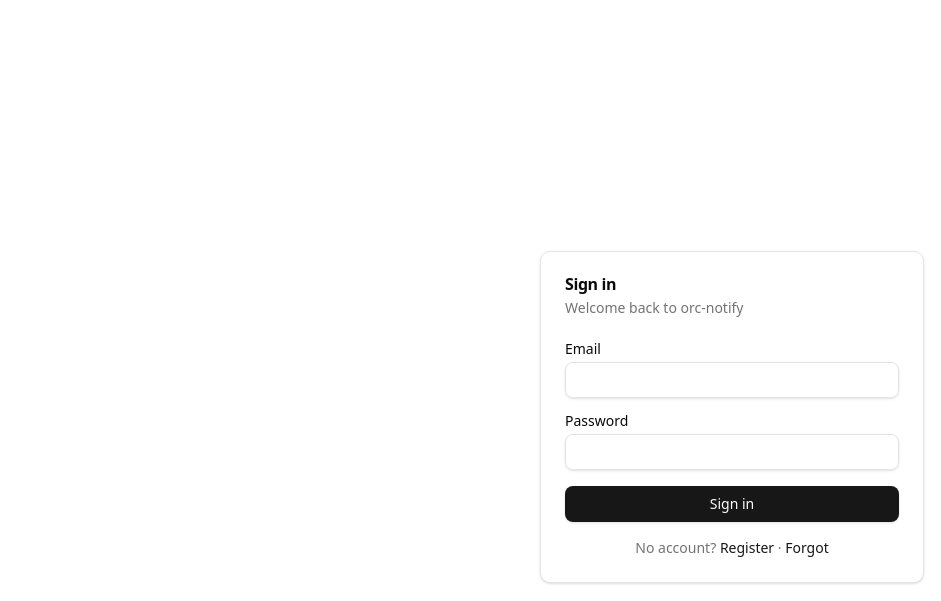
it: <Login> › submits credentials and navigates to /topics on success
The image size is (941, 601).
Type "a@b.c" into the field labelled "Email" at (732, 380), box [565,362,899,398]
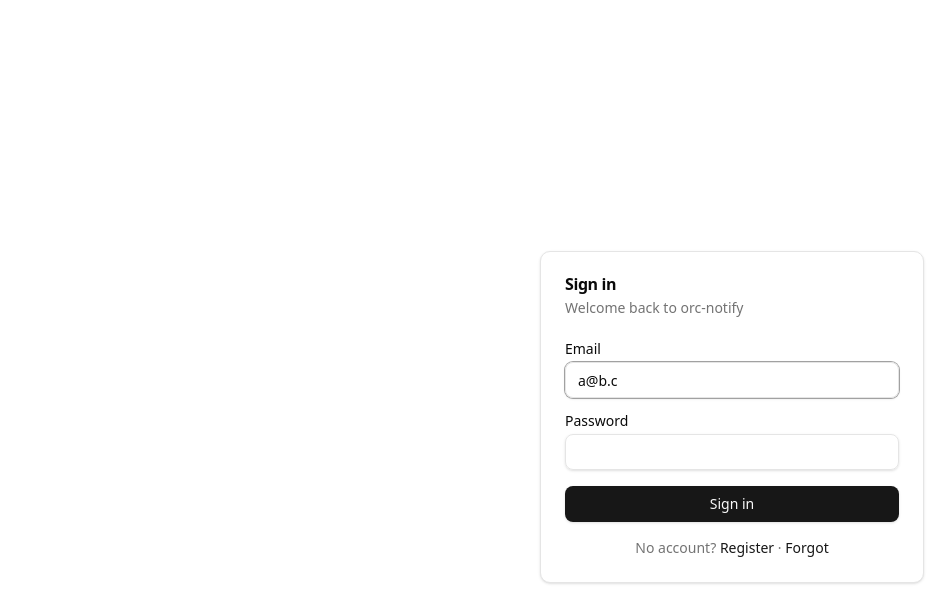
Type "verysecret" into the password field labelled "Password" at (732, 452), box [565,434,899,470]
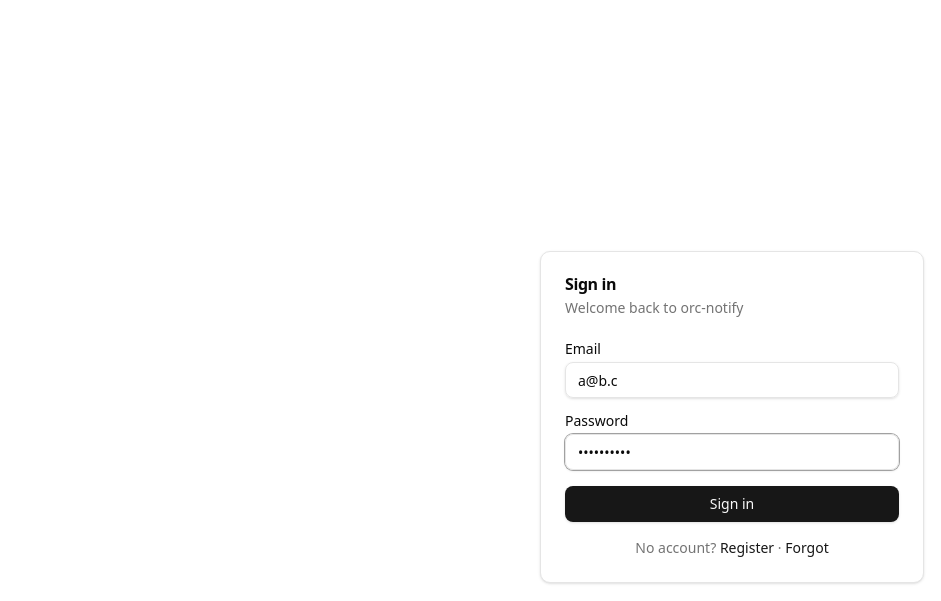
Click the button "Sign in" at (732, 504), box [565,486,899,522]
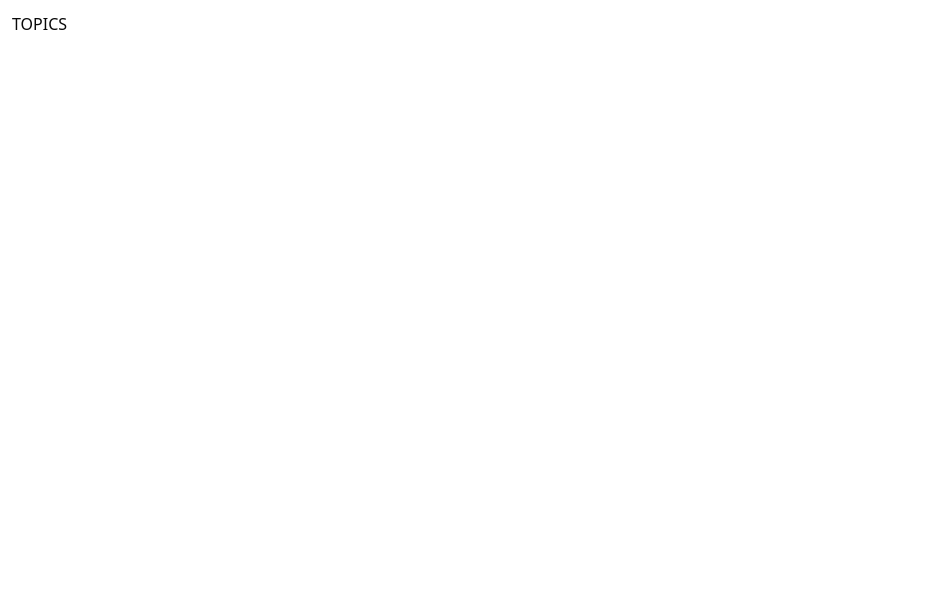
expect the text "TOPICS" is shown: met, box [12,13,67,35]
